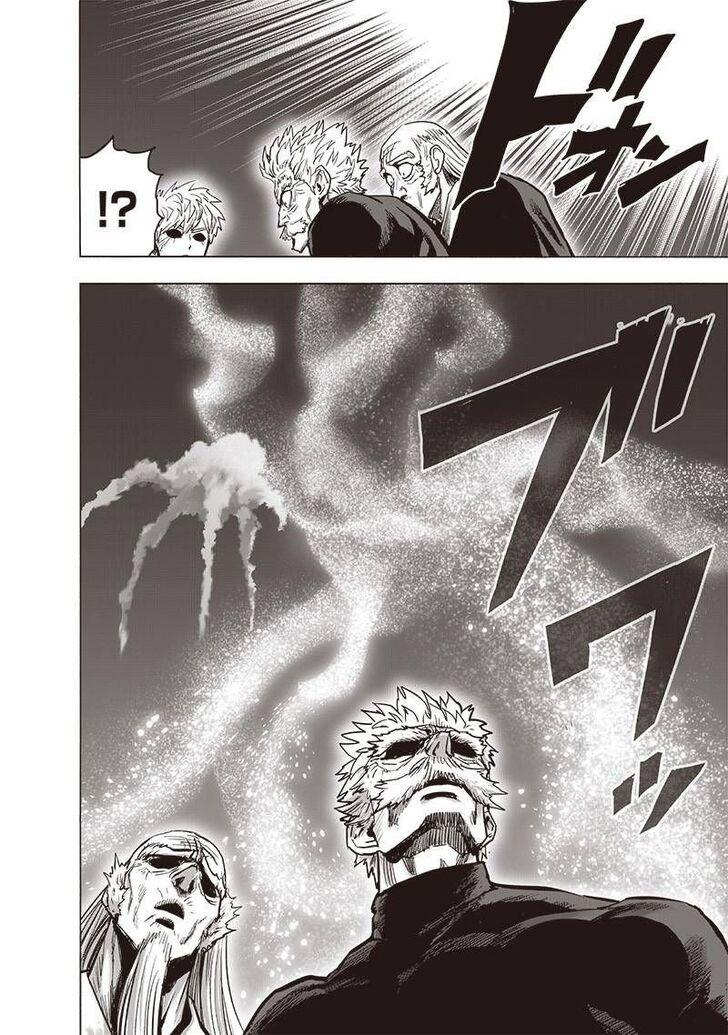Bubble: (77, 134, 164, 258)
